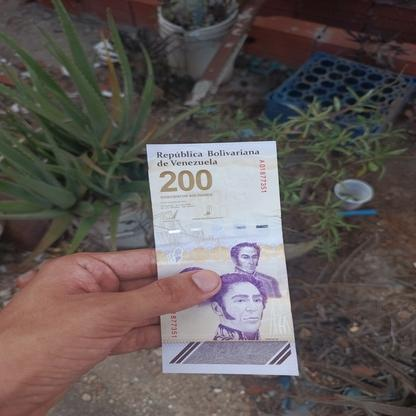two_hundred-front-vef: (145, 139, 299, 376)
